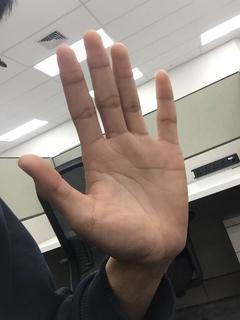hand: (18, 31, 186, 256)
